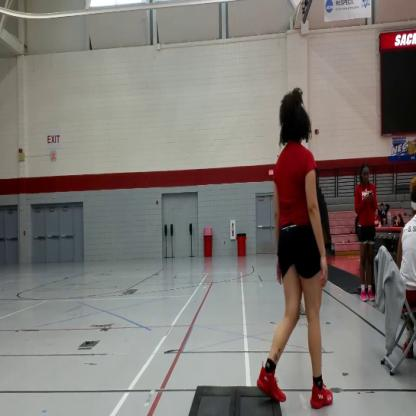lateral_flexion_right: (253, 78, 334, 416)
stance_width_broad: (253, 134, 334, 416)
